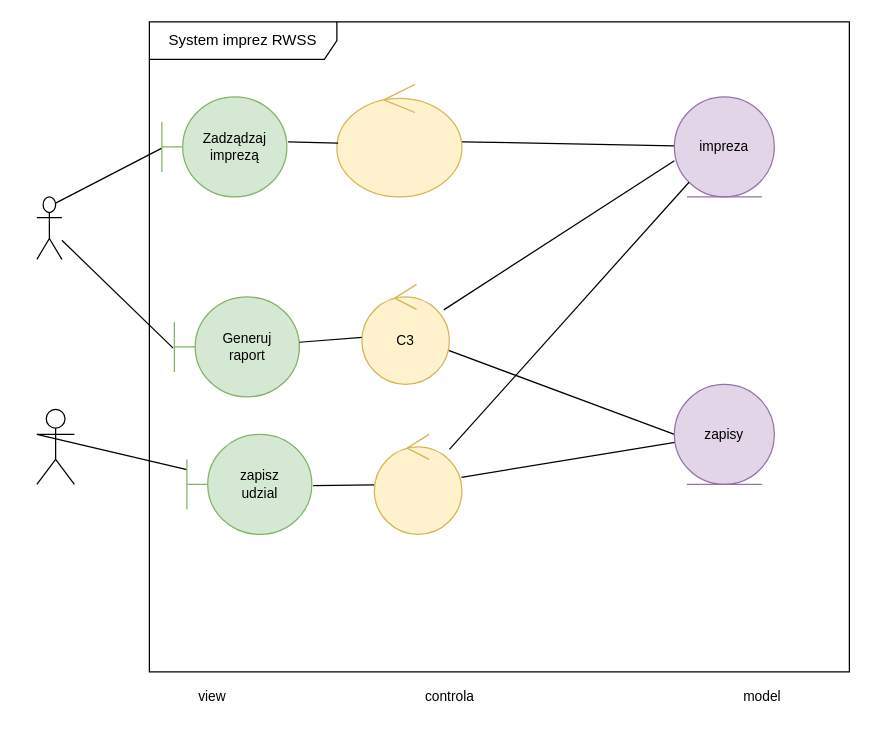
This 871x738 diagram has some shape labels left out. The shapes that lost their labels are listed below. From the top down, each one's box as (x1, y1, x2, y2) in pixels, then its label:
(336, 83, 462, 197): C1
(36, 196, 62, 259): Działacz
(36, 408, 74, 484): Student
(373, 433, 462, 534): C2
